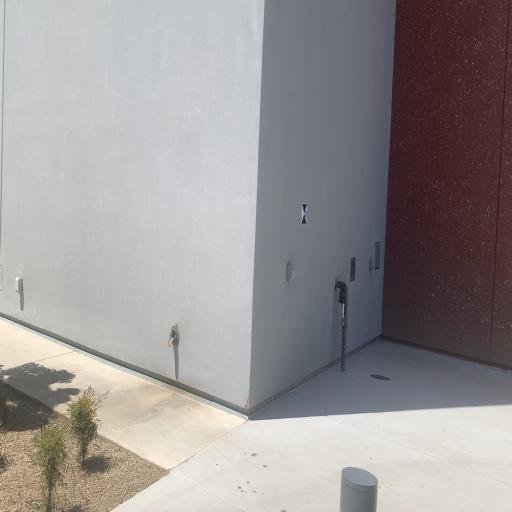target8: (300, 203, 308, 224)
